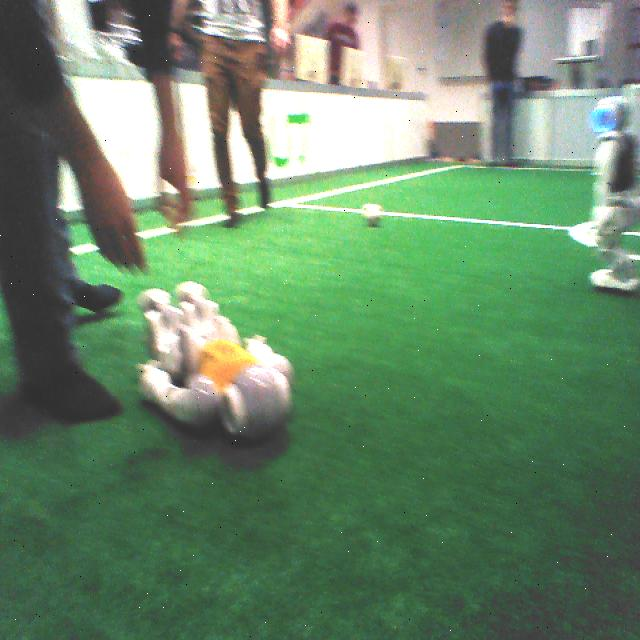ball: (358, 199, 388, 237)
